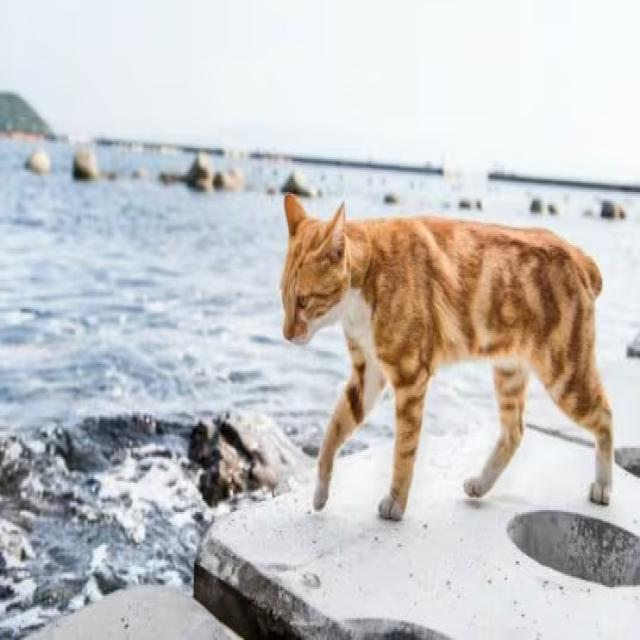cat: (281, 198, 614, 519)
